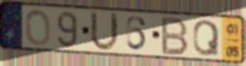6: (125, 16, 148, 53)
9: (54, 10, 80, 49)
B: (160, 16, 191, 57)
O: (24, 9, 52, 47)
Q: (192, 19, 221, 57)
U: (89, 9, 121, 53)
